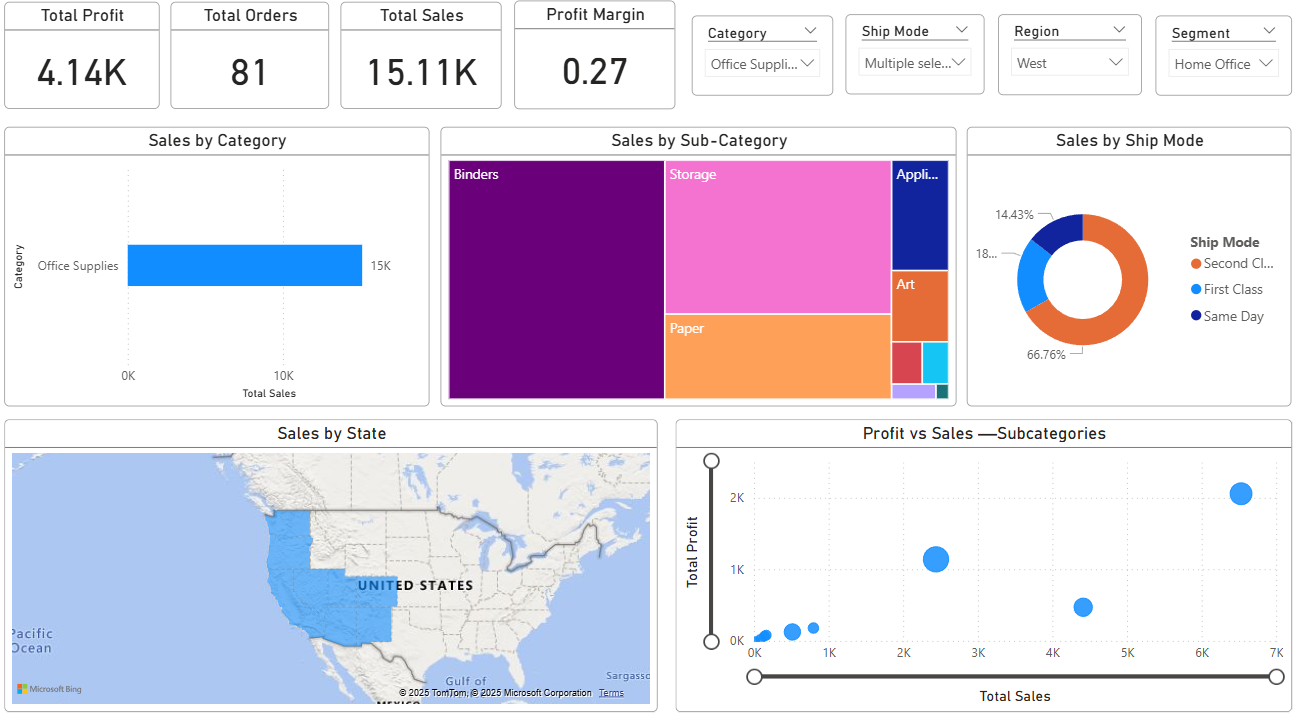

Layout of this report page (visuals, bound fields, positions):
{"tool":"powerbi","page":{"name":"Superstore Dashboard","canvas":[1280,720],"ordinal":0},"visuals":[{"type":"card","title":"Total Profit","fields":{"Values":["Sample - Superstore.Total Profit"]},"box":[11,13.5,151.6,105.2],"z":0},{"type":"card","title":"Total Sales","fields":{"Values":["Sample - Superstore.Total Sales"]},"box":[339.9,13.5,157.7,105.2],"z":1},{"type":"card","title":"Profit Margin","fields":{"Values":["Sample - Superstore.Profit Margin"]},"box":[509.9,12.2,157.7,106.4],"z":2},{"type":"card","title":"Total Orders","fields":{"Values":["Sample - Superstore.Total Orders"]},"box":[173.6,13.5,155.3,105.2],"z":3},{"type":"slicer","fields":{"Values":["Sample - Superstore.Category"]},"box":[683.6,26.9,138.2,78.3],"z":4},{"type":"slicer","fields":{"Values":["Sample - Superstore.Ship Mode"]},"box":[834,25.7,135.7,78.3],"z":5},{"type":"slicer","fields":{"Values":["Sample - Superstore.Region"]},"box":[983.2,25.7,140.6,79.5],"z":6},{"type":"slicer","fields":{"Values":["Sample - Superstore.Segment"]},"box":[1137.2,26.9,133.3,78.3],"z":7},{"type":"scatterChart","title":"Profit vs Sales —Subcategories","fields":{"X":["Sample - Superstore.Total Sales"],"Y":["Sample - Superstore.Total Profit"],"Category":["Sample - Superstore.Sub-Category"],"Size":["Sum(Sample - Superstore.Quantity)"]},"box":[667.7,421.9,602.9,286.1],"z":8},{"type":"filledMap","title":"Sales by State","fields":{"Category":["Sample - Superstore.State"]},"box":[11,421.9,639.5,286.1],"z":9},{"type":"treemap","title":"Sales by Sub-Category","fields":{"Group":["Sample - Superstore.Sub-Category"],"Values":["Sample - Superstore.Total Sales"]},"box":[437.8,135.7,505,273.9],"z":10},{"type":"clusteredBarChart","title":" Sales by Category","fields":{"Category":["Sample - Superstore.Category"],"Y":["Sample - Superstore.Total Sales"]},"box":[11,135.7,415.8,273.9],"z":11},{"type":"donutChart","title":" Sales by Ship Mode","fields":{"Category":["Sample - Superstore.Ship Mode"],"Y":["Sample - Superstore.Total Sales"]},"box":[952.6,135.7,317.9,273.9],"z":12}]}

Visuals, with their boxes in screenshot pixels (x1, y1, x2, y2), scaled from the page's 1280x720 canvas onto the 1297x720 screenshot:
"Total Profit" card: select_region(11, 14, 165, 119)
"Total Sales" card: select_region(344, 14, 504, 119)
"Profit Margin" card: select_region(517, 12, 676, 119)
"Total Orders" card: select_region(176, 14, 333, 119)
slicer - Sample - Superstore.Category: select_region(693, 27, 833, 105)
slicer - Sample - Superstore.Ship Mode: select_region(845, 26, 983, 104)
slicer - Sample - Superstore.Region: select_region(996, 26, 1139, 105)
slicer - Sample - Superstore.Segment: select_region(1152, 27, 1287, 105)
"Profit vs Sales —Subcategories" scatterChart: select_region(677, 422, 1287, 708)
"Sales by State" filledMap: select_region(11, 422, 659, 708)
"Sales by Sub-Category" treemap: select_region(444, 136, 955, 410)
" Sales by Category" clusteredBarChart: select_region(11, 136, 432, 410)
" Sales by Ship Mode" donutChart: select_region(965, 136, 1287, 410)
